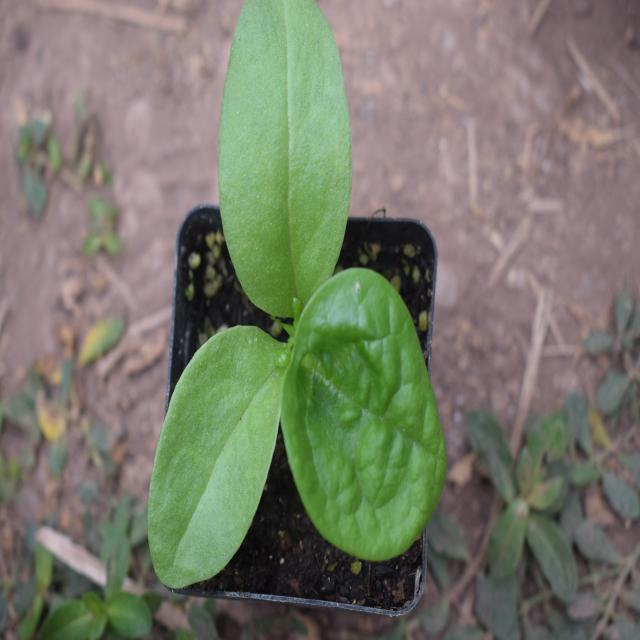Ceylon spinach: (148, 9, 452, 564)
